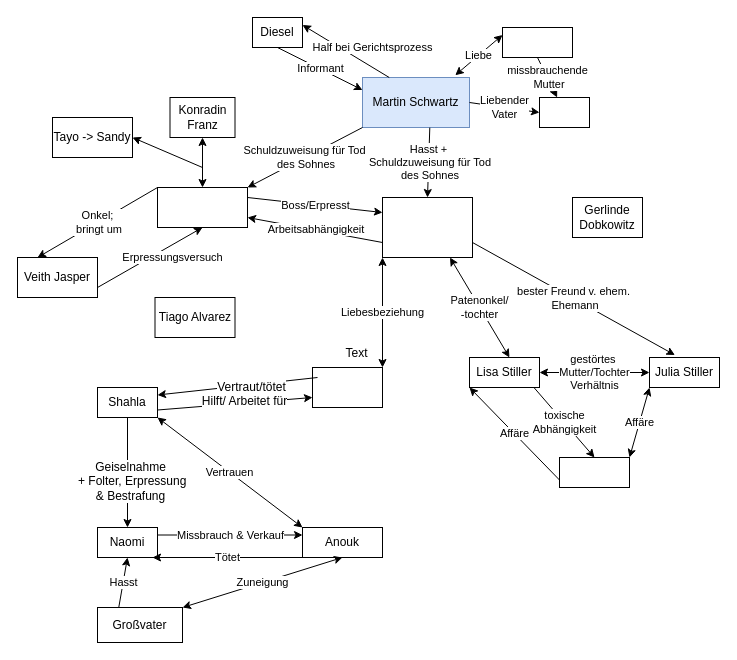
Some shapes in this 737 by 660 pixel diagram are drawn without their labels. Each missing label, with the centre of its shape:
Daniel Bonhoeffer: (x=427, y=227)
Elena Beck: (x=347, y=387)
Nadja: (x=537, y=42)
Timmy: (x=564, y=112)
Tom Schiwy: (x=594, y=472)
Yegor Kalinin: (x=202, y=207)
